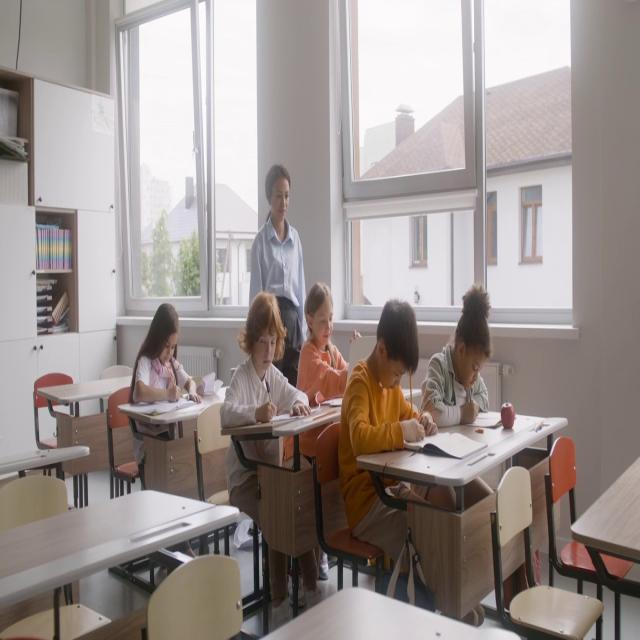writing: (340, 298, 465, 623), (220, 292, 316, 626), (130, 302, 207, 560), (421, 284, 493, 428), (293, 282, 349, 452)
